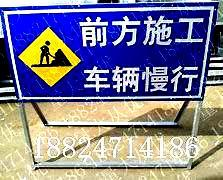sign: (6, 5, 213, 100)
